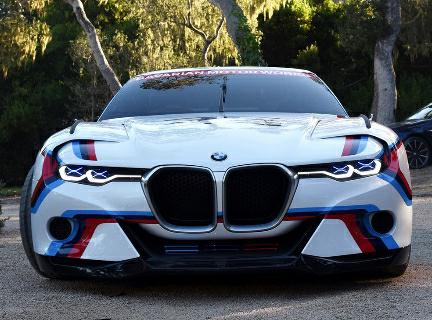宝马-30CSLHommage: (21, 67, 417, 280)
